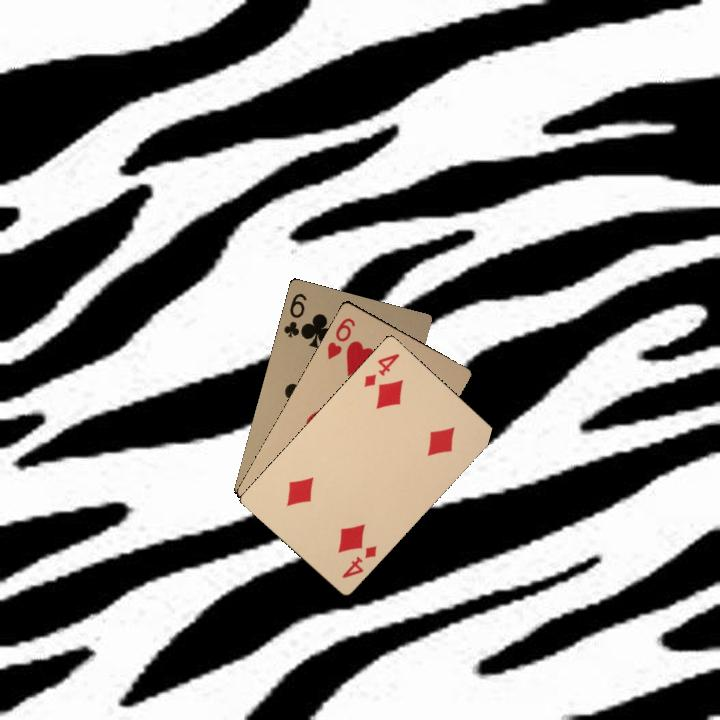4d: (360, 349, 402, 390), (338, 542, 379, 581)
6c: (280, 289, 309, 340)
6h: (323, 314, 358, 361)
